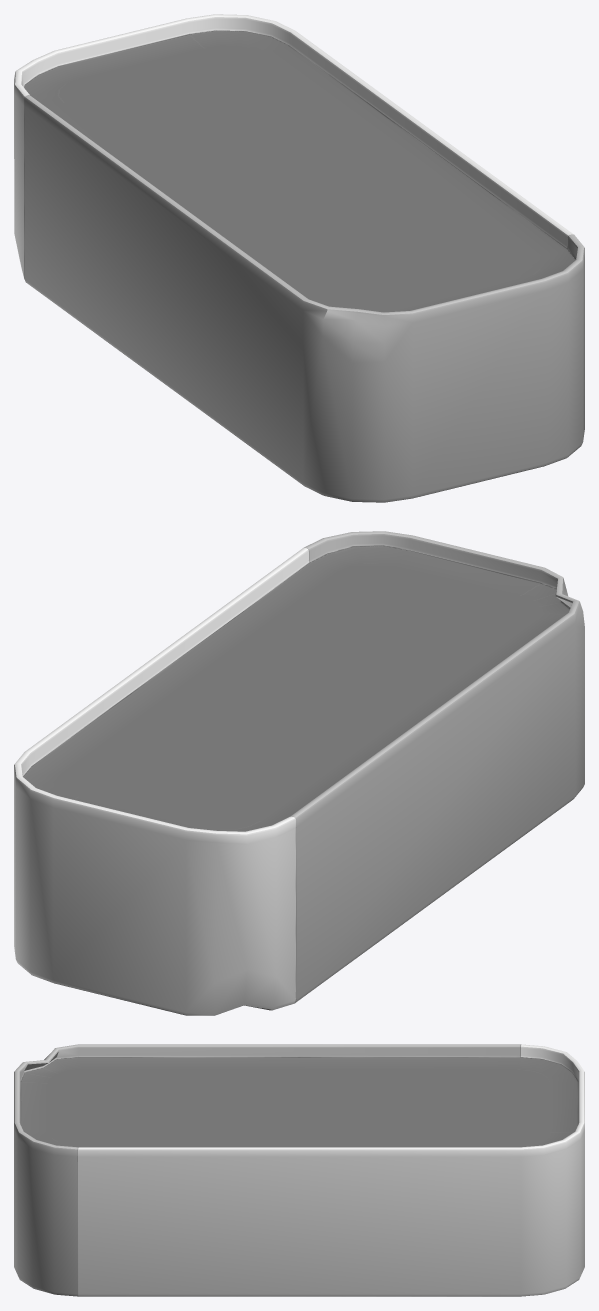
The model's file is 7.62x39 close.fbx.
The picture shows the model from 3 angles, top to bottom: view 1: azimuth 30°, elevation 25°; view 2: azimuth 150°, elevation 25°; view 3: azimuth 270°, elevation 25°; orthographic projection. The views are drawn at different scales.
Visible parts, largest first — view 1: 7_62; view 2: 7_62; view 3: 7_62.
Part boxes in pixels (bbox=[...]): 7_62: bbox=[14, 14, 584, 502]; 7_62: bbox=[14, 531, 584, 1015]; 7_62: bbox=[14, 1044, 584, 1296].
Bounding box in the file's own units: 15.6 × 10.3 × 35.7.
Materials: 1 (1 with a texture image).
